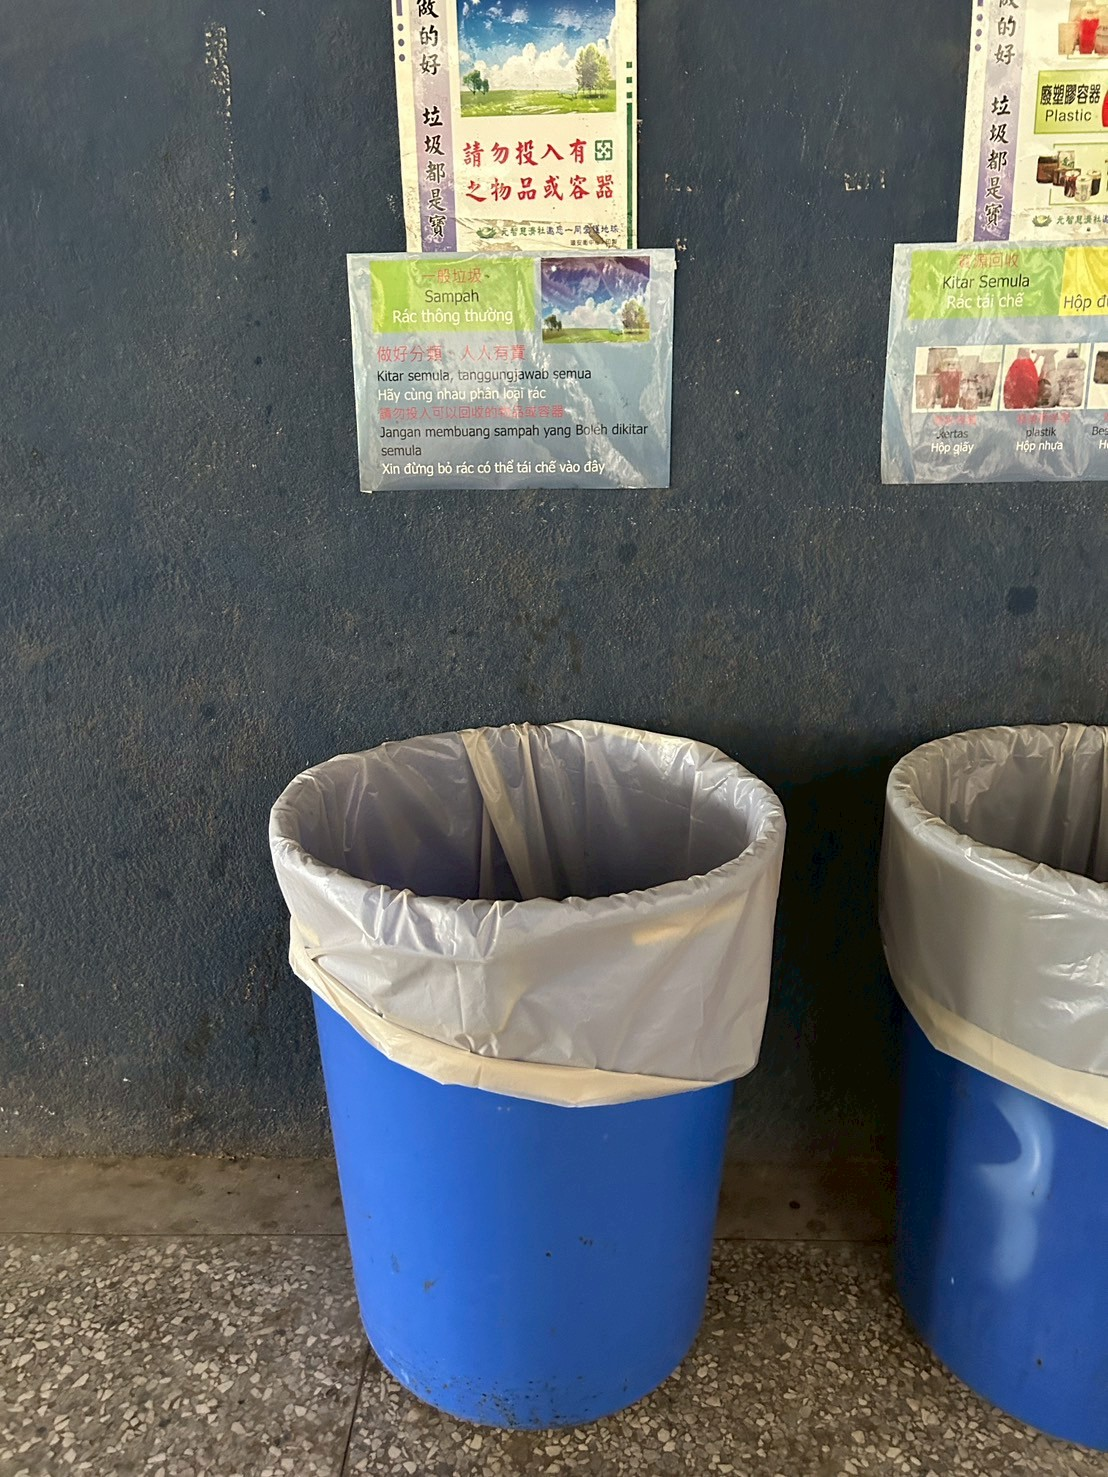normal_bin: (233, 676, 822, 1432)
